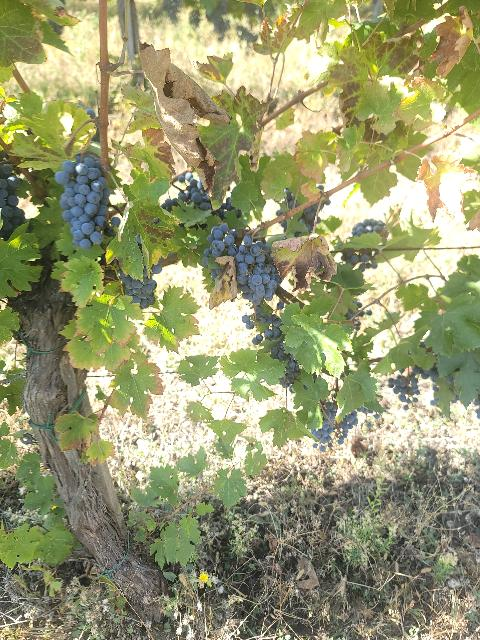grapes: (55, 152, 115, 250), (161, 171, 241, 220), (235, 235, 279, 306), (120, 264, 162, 309), (201, 224, 238, 269), (388, 366, 420, 409), (312, 401, 338, 451), (339, 411, 358, 444)
